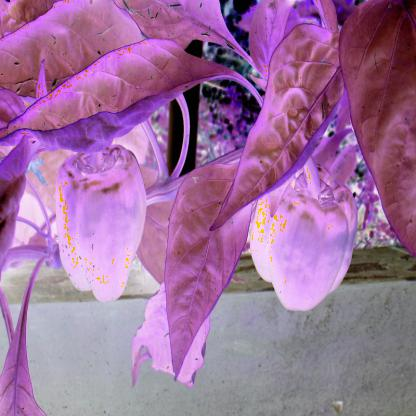bell pepper leaf: (211, 23, 350, 235), (17, 40, 245, 150), (341, 1, 415, 259), (167, 161, 255, 377)
